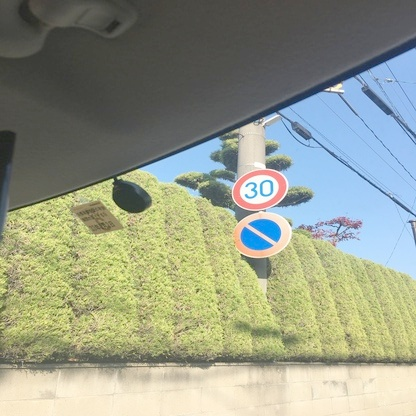Prohibition_sign: (230, 211, 299, 263)
Speed_sign: (230, 170, 288, 213)
